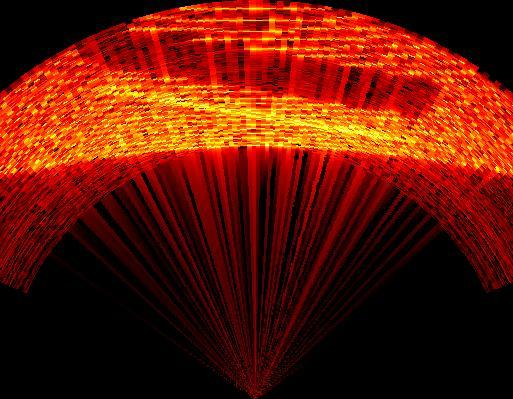pipe: (68, 26, 442, 122)
